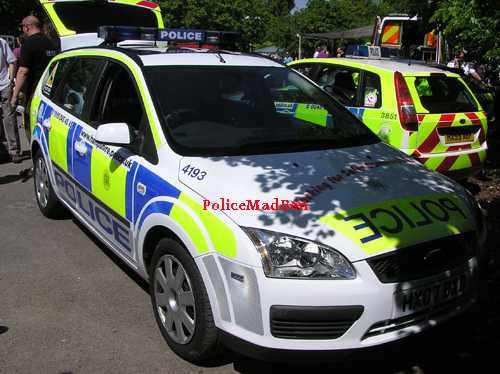Police Car: (42, 25, 489, 374), (290, 38, 491, 175)
